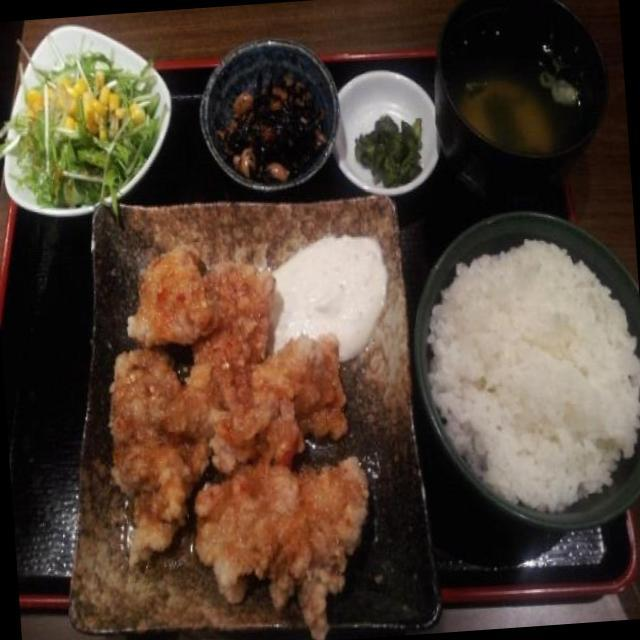Green Salad: (0, 24, 163, 218)
Rice: (415, 232, 640, 510)
